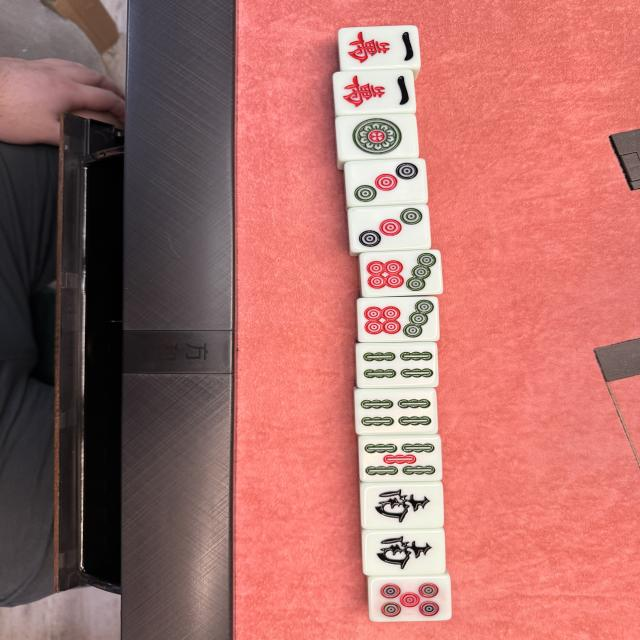sd1: (344, 158, 428, 207), (348, 204, 430, 252), (353, 388, 438, 434), (359, 250, 443, 296), (358, 435, 442, 481), (368, 576, 452, 622), (360, 482, 442, 529), (356, 342, 439, 388), (362, 529, 445, 575), (332, 69, 416, 114), (335, 114, 419, 159), (356, 297, 440, 342), (337, 25, 420, 69)
